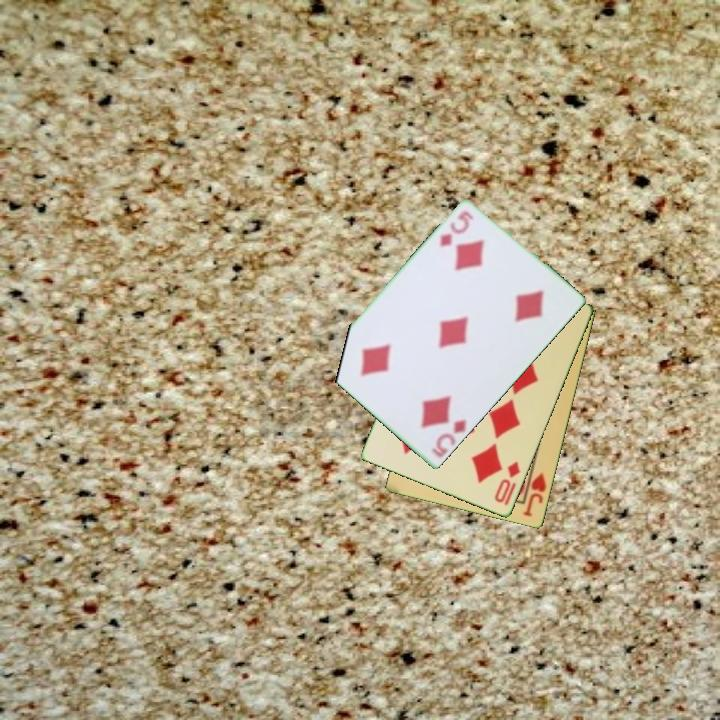10d: (491, 458, 523, 506)
5d: (428, 417, 469, 461), (435, 208, 477, 250)
Jh: (520, 469, 549, 520)
